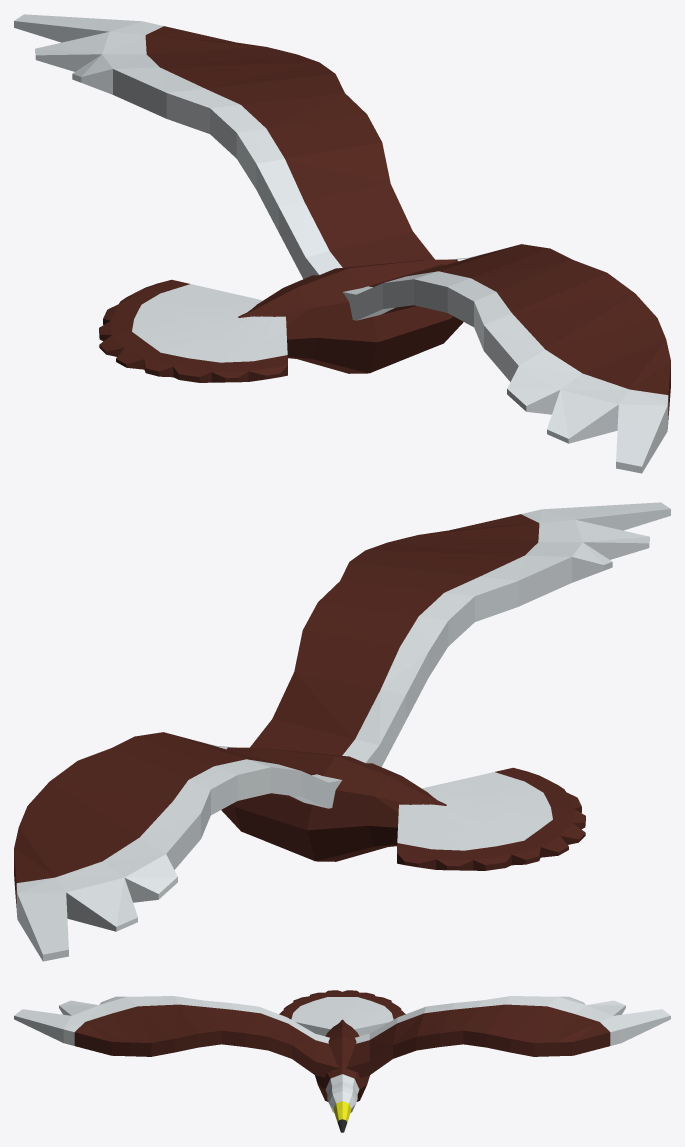
The model's file is Eagle.dae.
3 views of the same model, one above another, from view 1: azimuth 30°, elevation 25°; view 2: azimuth 150°, elevation 25°; view 3: azimuth 270°, elevation 25° (orthographic). The views are drawn at different scales.
Parts seen in each view (by area): view 1: Cube, Cube.001, Cylinder; view 2: Cube, Cube.001, Cylinder; view 3: Cube, Cube.001, Cylinder.
Boxes of the visible parts, x1,y1,x2,y2 form: Cube: [14, 14, 670, 473]; Cube.001: [99, 279, 287, 382]; Cylinder: [238, 254, 483, 373]; Cube: [14, 502, 670, 961]; Cube.001: [397, 767, 585, 870]; Cylinder: [201, 742, 446, 861]; Cube: [14, 996, 670, 1077]; Cube.001: [279, 990, 405, 1036]; Cylinder: [315, 1019, 369, 1132].
Bounding box in the file's own units: 16.89 × 39.84 × 6.07.
